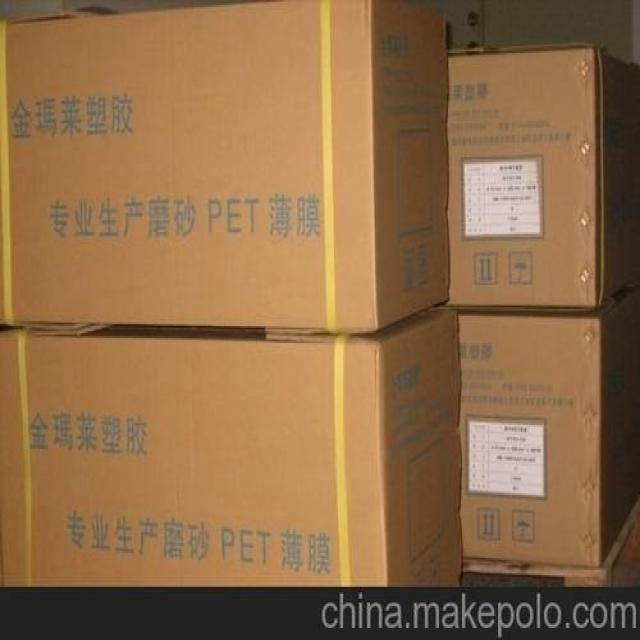box: (0, 0, 449, 335), (0, 311, 462, 587), (428, 271, 640, 567), (442, 43, 640, 312), (462, 492, 640, 589)
